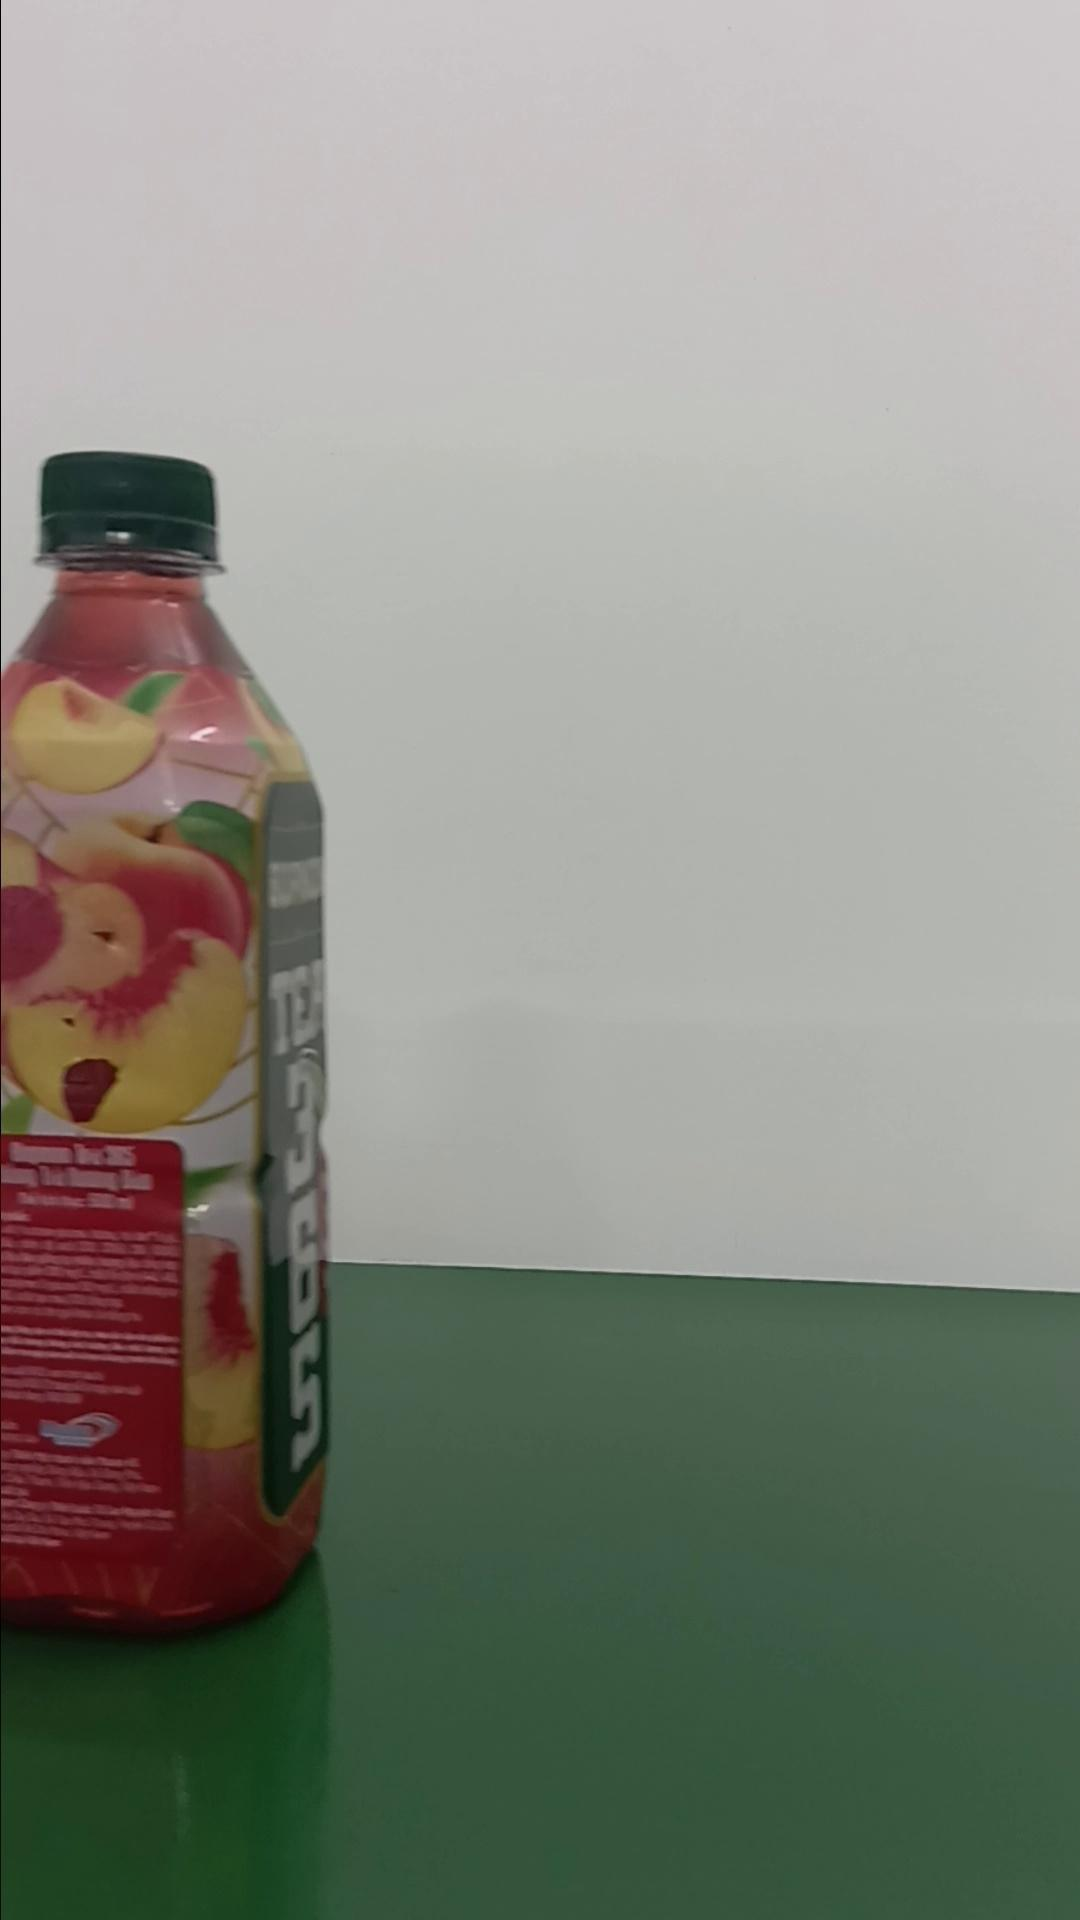loi rach va lap chai: (3, 440, 332, 1650)
